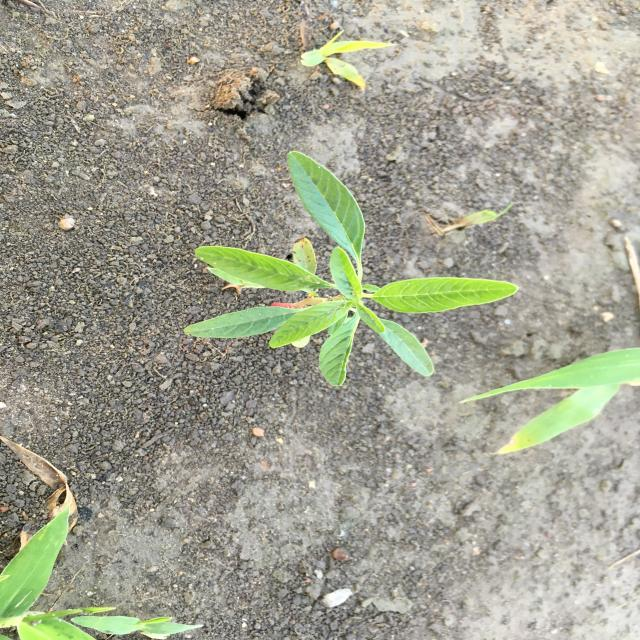Waterhemp: (182, 150, 522, 390)
